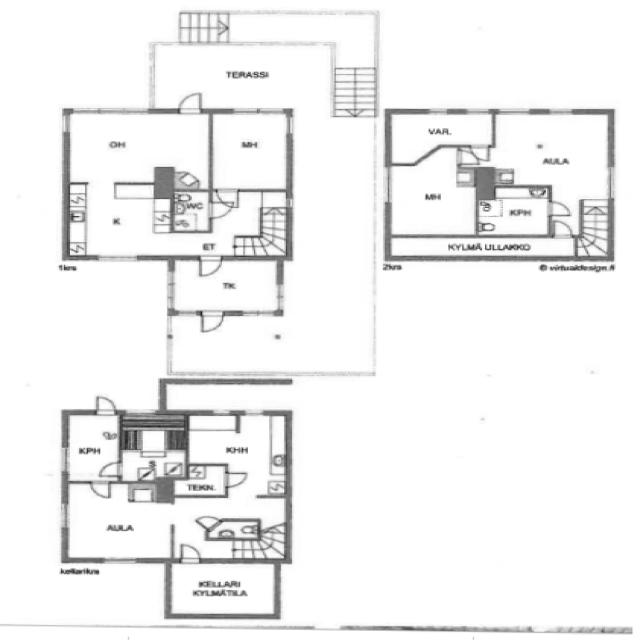door: (171, 189, 213, 232), (546, 200, 573, 236), (196, 308, 227, 336), (175, 90, 205, 116), (195, 254, 224, 280), (212, 187, 241, 209), (176, 542, 203, 564), (91, 394, 118, 416), (206, 200, 235, 220), (221, 469, 250, 489), (96, 460, 124, 480), (87, 479, 112, 501), (453, 147, 479, 168), (544, 200, 572, 218), (549, 219, 574, 239), (468, 143, 491, 162)
window: (70, 104, 150, 117), (378, 164, 396, 206), (226, 106, 288, 118), (601, 163, 620, 201), (162, 268, 178, 313), (91, 252, 143, 265), (98, 555, 140, 568), (235, 308, 278, 320), (54, 500, 71, 530), (308, 622, 349, 634), (272, 280, 287, 312), (55, 446, 71, 474), (121, 406, 158, 417), (494, 106, 534, 116), (281, 114, 297, 137), (545, 107, 578, 118), (205, 407, 238, 418), (58, 113, 72, 137), (238, 408, 268, 419), (461, 107, 493, 117), (423, 107, 452, 118), (173, 308, 200, 318), (283, 194, 296, 210)
zone: (63, 112, 211, 184), (491, 112, 612, 190), (184, 412, 290, 497), (61, 482, 172, 561), (65, 182, 174, 260), (386, 156, 478, 238), (175, 496, 289, 561), (166, 560, 280, 618), (209, 111, 290, 191), (170, 258, 282, 314), (386, 112, 496, 161), (118, 413, 187, 481), (63, 413, 119, 483), (477, 185, 552, 236), (170, 190, 211, 233), (177, 465, 227, 498)
